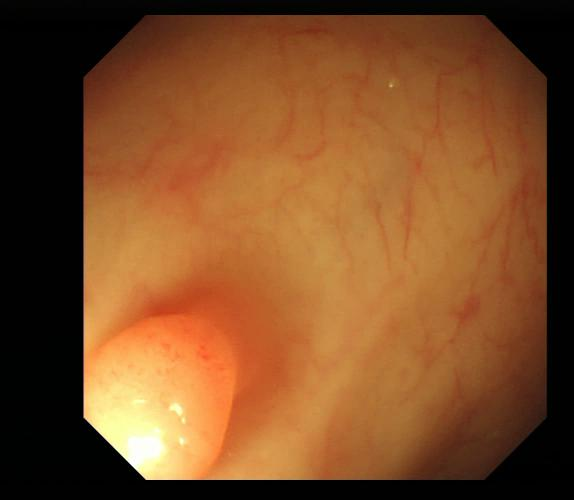polyp: (84, 314, 241, 479)
